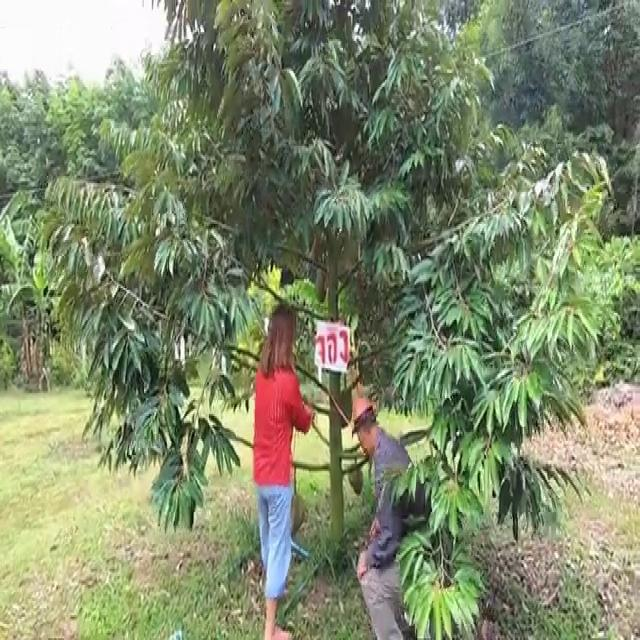durian: (286, 490, 308, 540), (346, 460, 366, 499)
